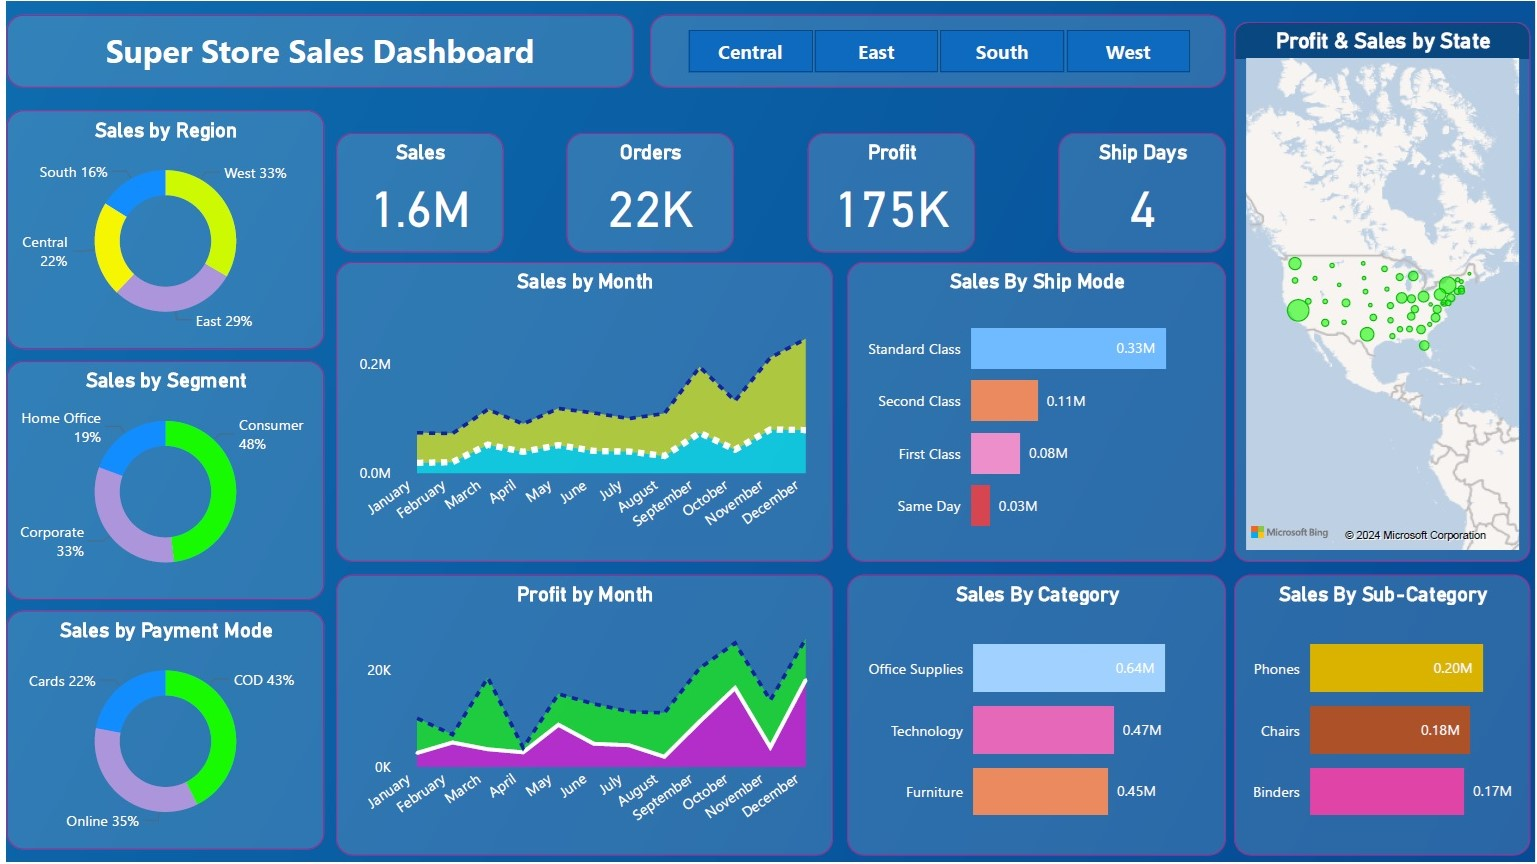

The page's visual inventory and layout, read from the dashboard file:
{"tool":"powerbi","page":{"name":"Page 1","canvas":[1280,720],"ordinal":0},"visuals":[{"type":"clusteredBarChart","title":"Sales By Category","fields":{"Category":["SuperStore_Sales_Dataset.Category"],"Y":["Sum(SuperStore_Sales_Dataset.Sales)"]},"box":[703.9,480.3,317,234.6],"z":0},{"type":"clusteredBarChart","title":"Sales By Sub-Category","fields":{"Category":["SuperStore_Sales_Dataset.Sub-Category"],"Y":["Sum(SuperStore_Sales_Dataset.Sales)"]},"box":[1027.8,480.3,248.4,234.6],"z":1000},{"type":"clusteredBarChart","title":"Sales By Ship Mode","fields":{"Category":["SuperStore_Sales_Dataset.Ship Mode"],"Y":["Sum(SuperStore_Sales_Dataset.Sales)"]},"box":[703.9,218.2,317,251.1],"z":2000},{"type":"stackedAreaChart","title":"Sales by Month","fields":{"Y":["Sum(SuperStore_Sales_Dataset.Sales)"],"Category":["SuperStore_Sales_Dataset.Order Date.Variation.Date Hierarchy.Month","SuperStore_Sales_Dataset.Order Date.Variation.Date Hierarchy.Day"],"Series":["SuperStore_Sales_Dataset.Order Date.Variation.Date Hierarchy.Year"]},"box":[275.8,218.2,415.8,251.1],"z":3000},{"type":"stackedAreaChart","title":"Profit by Month","fields":{"Category":["SuperStore_Sales_Dataset.Order Date.Variation.Date Hierarchy.Month","SuperStore_Sales_Dataset.Order Date.Variation.Date Hierarchy.Day"],"Series":["SuperStore_Sales_Dataset.Order Date.Variation.Date Hierarchy.Year"],"Y":["Sum(SuperStore_Sales_Dataset.Profit)"]},"box":[275.8,480.3,415.8,234.6],"z":4000},{"type":"map","title":"Profit & Sales by State","fields":{"Category":["SuperStore_Sales_Dataset.State"],"Size":["Sum(SuperStore_Sales_Dataset.Sales)"]},"box":[1027.9,16.9,248.5,452.4],"z":4001},{"type":"donutChart","title":"Sales by Segment","fields":{"Category":["SuperStore_Sales_Dataset.Segment"],"Y":["Sum(SuperStore_Sales_Dataset.Sales)"]},"box":[0,300.5,266.2,200.3],"z":4002},{"type":"donutChart","title":"Sales by Payment Mode","fields":{"Category":["SuperStore_Sales_Dataset.Payment Mode"],"Y":["Sum(SuperStore_Sales_Dataset.Sales)"]},"box":[0,510.5,266.2,200],"z":4003},{"type":"slicer","fields":{"Values":["SuperStore_Sales_Dataset.Region"]},"box":[539.3,10.9,481.4,61.5],"z":4004},{"type":"textbox","box":[0,10.9,524.8,61.5],"z":4005},{"type":"card","title":"Sales","fields":{"Values":["Sum(SuperStore_Sales_Dataset.Sales)"]},"box":[275.8,109.8,140,100.2],"z":4006},{"type":"card","title":"Orders","fields":{"Values":["Sum(SuperStore_Sales_Dataset.Quantity)"]},"box":[469.3,109.8,140,100.2],"z":4007},{"type":"card","title":"Profit","fields":{"Values":["Sum(SuperStore_Sales_Dataset.Profit)"]},"box":[671,109.8,140,100.2],"z":4008},{"type":"card","title":"Ship Days","fields":{"Values":["Avg(SuperStore_Sales_Dataset.AverageDelivery)"]},"box":[881,109.8,140,100.2],"z":4009},{"type":"donutChart","title":"Sales by Region","fields":{"Category":["SuperStore_Sales_Dataset.Region"],"Y":["Sum(SuperStore_Sales_Dataset.Sales)"]},"box":[0,90.6,266.2,200],"z":4010}]}

Visuals, with their boxes in screenshot pixels (x1, y1, x2, y2), scaled from the page's 1280x720 canvas onto the 1537x864 screenshot:
"Sales By Category" clusteredBarChart: (845, 576, 1226, 858)
"Sales By Sub-Category" clusteredBarChart: (1234, 576, 1532, 858)
"Sales By Ship Mode" clusteredBarChart: (845, 262, 1226, 563)
"Sales by Month" stackedAreaChart: (331, 262, 830, 563)
"Profit by Month" stackedAreaChart: (331, 576, 830, 858)
"Profit & Sales by State" map: (1234, 20, 1533, 563)
"Sales by Segment" donutChart: (0, 361, 320, 601)
"Sales by Payment Mode" donutChart: (0, 613, 320, 853)
slicer - SuperStore_Sales_Dataset.Region: (648, 13, 1226, 87)
textbox: (0, 13, 630, 87)
"Sales" card: (331, 132, 499, 252)
"Orders" card: (564, 132, 732, 252)
"Profit" card: (806, 132, 974, 252)
"Ship Days" card: (1058, 132, 1226, 252)
"Sales by Region" donutChart: (0, 109, 320, 349)
